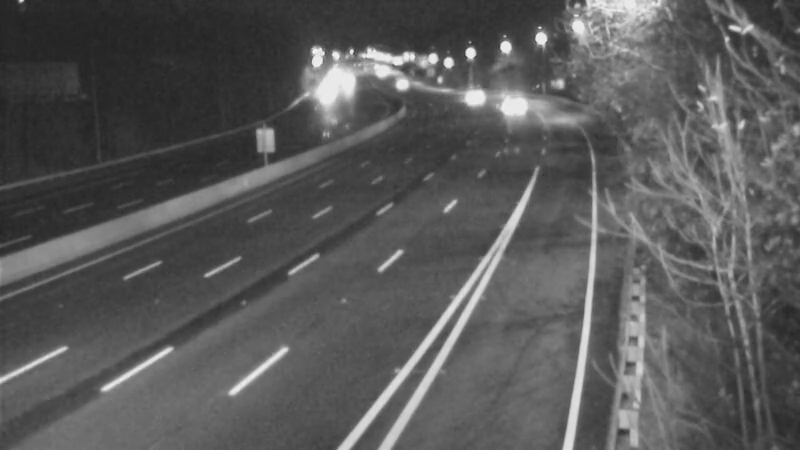vehicle: (375, 56, 425, 106), (443, 70, 493, 120), (478, 78, 528, 128)
